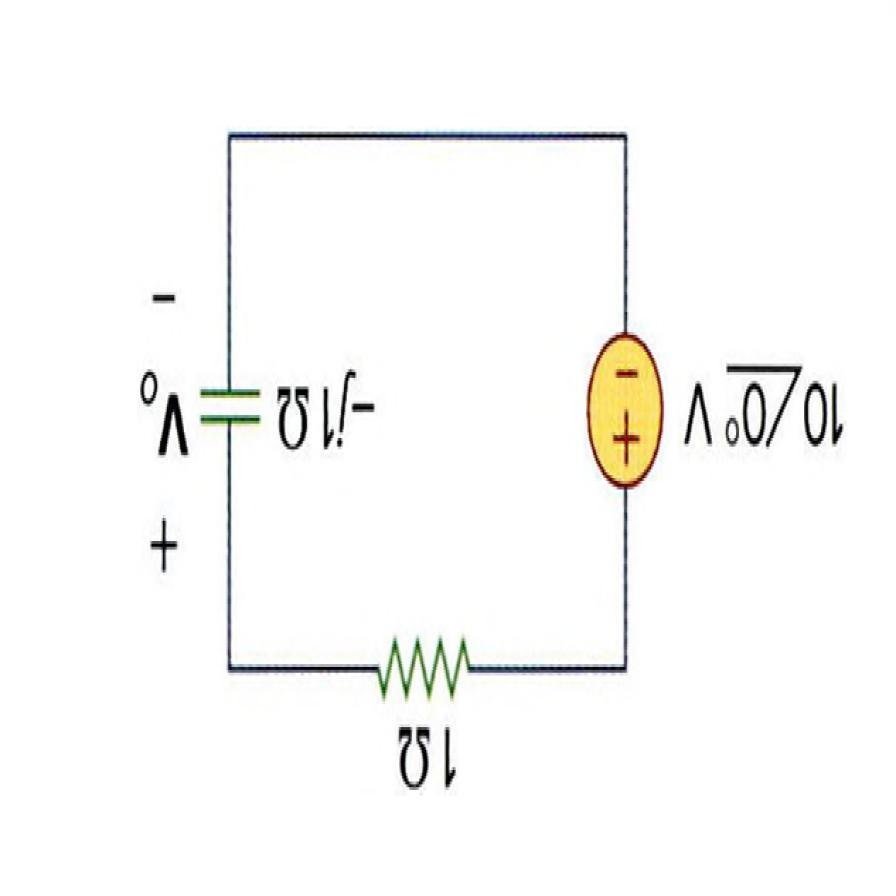V3: (576, 320, 670, 504)
